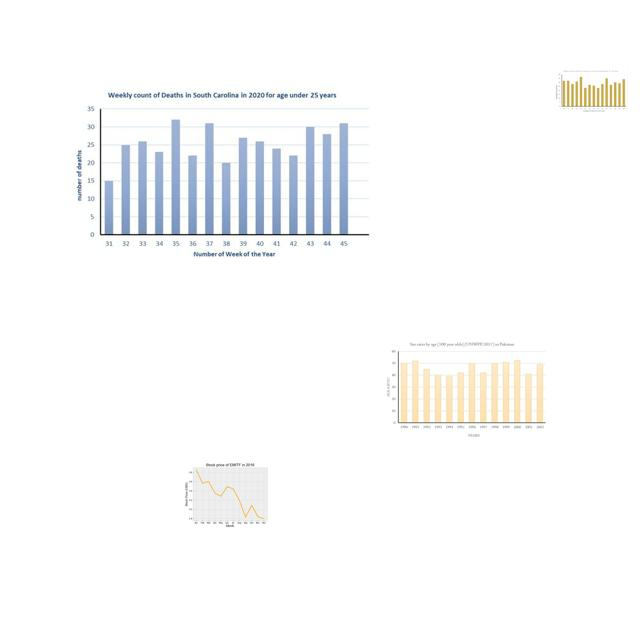Graph: (68, 86, 376, 266), (384, 340, 549, 439), (181, 458, 277, 530), (554, 69, 628, 114)
